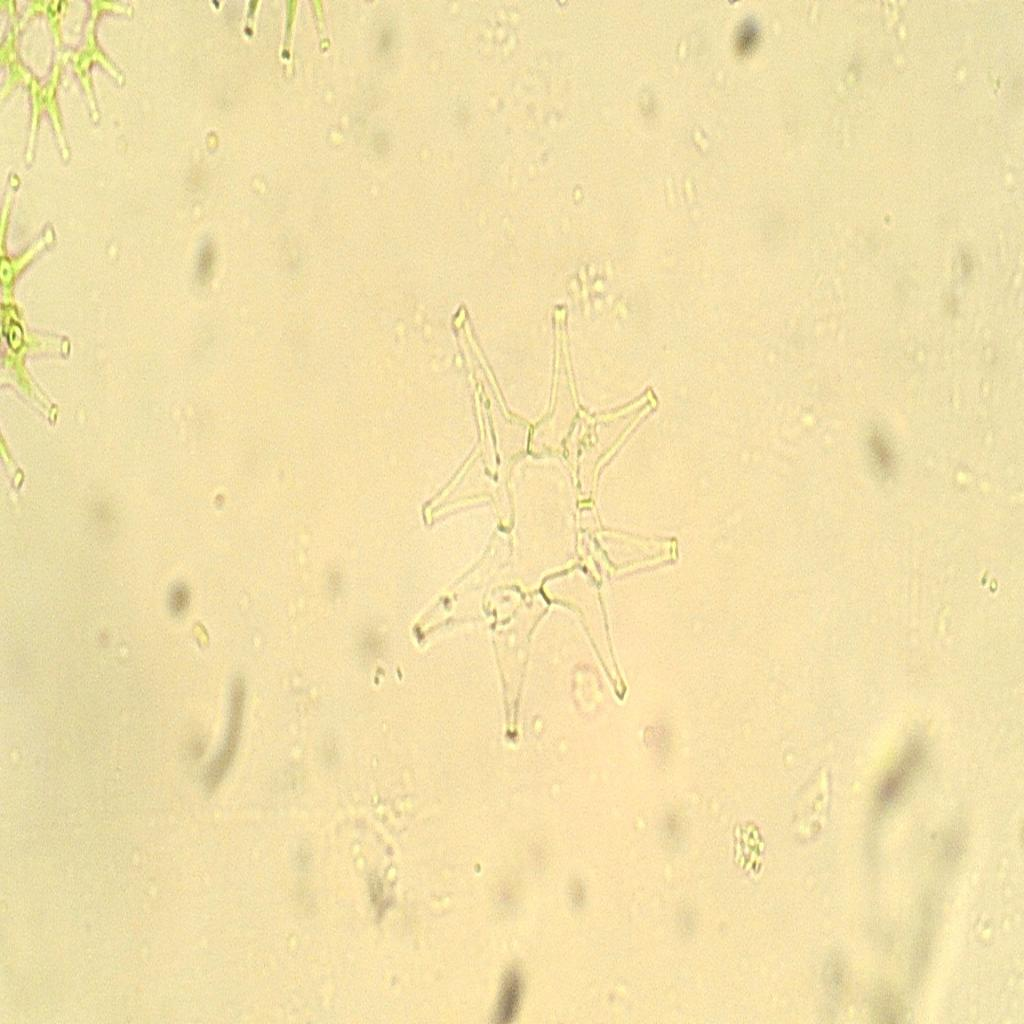Pediastrum_1F0: (388, 266, 695, 771)
